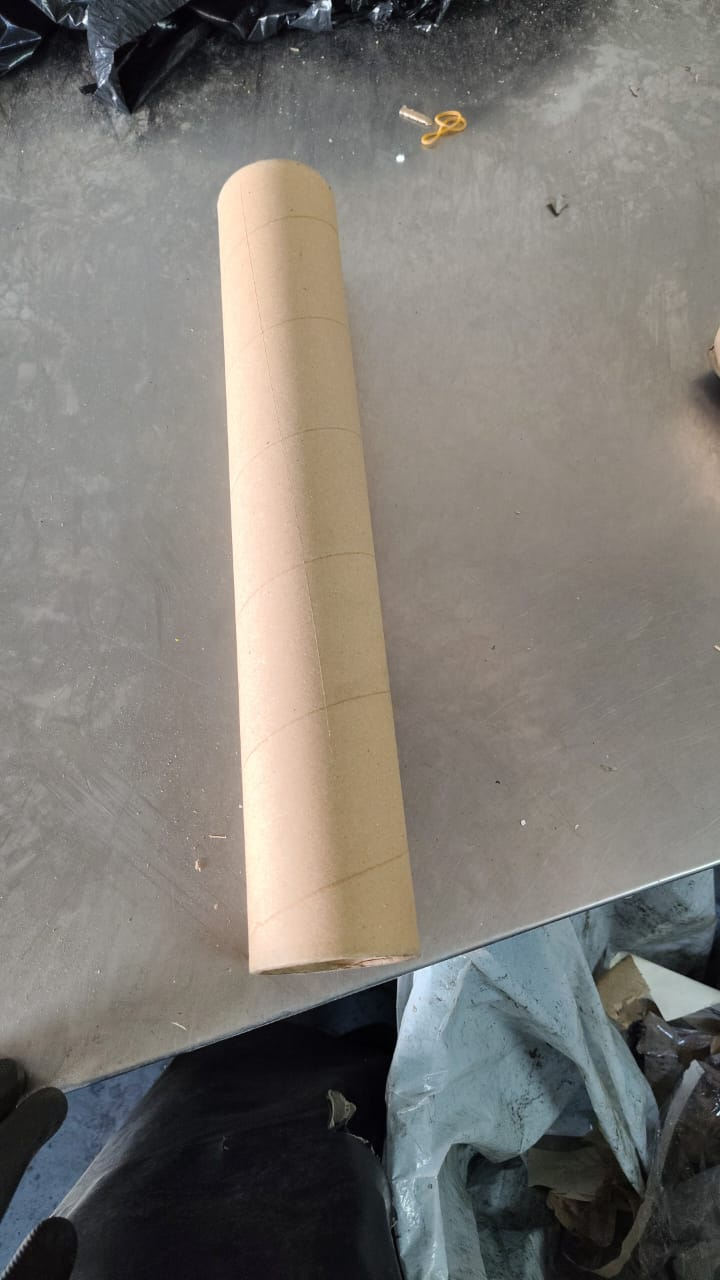Carton: (218, 159, 423, 973)
